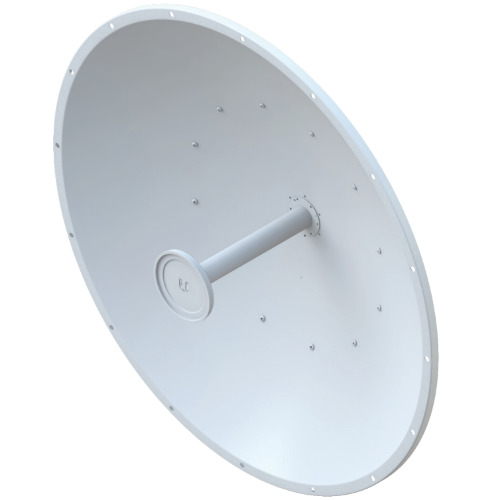ba: (33, 6, 450, 497)
